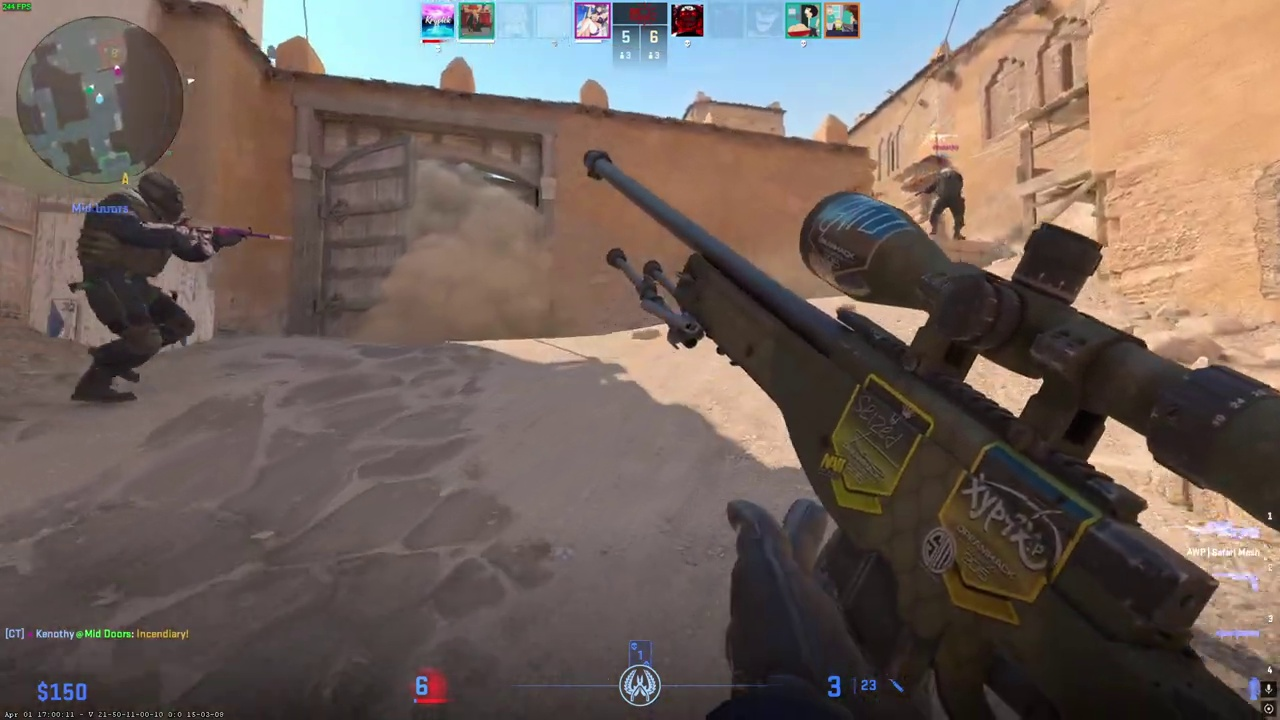CT: (71, 172, 201, 405), (929, 166, 965, 240)
